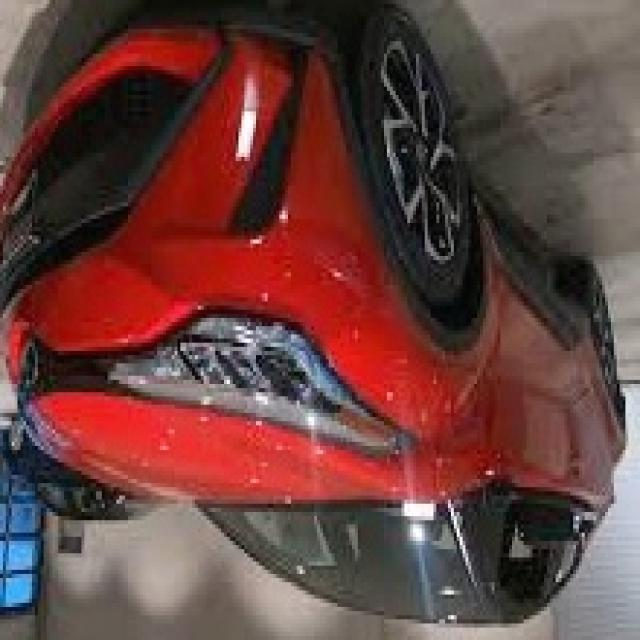red: (4, 0, 624, 601)
